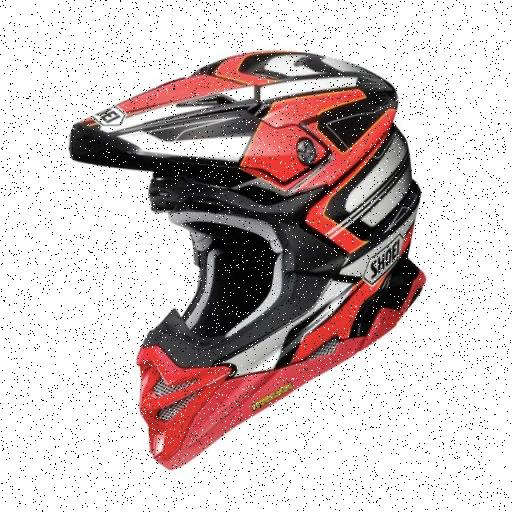Helmet: (71, 52, 424, 467)
